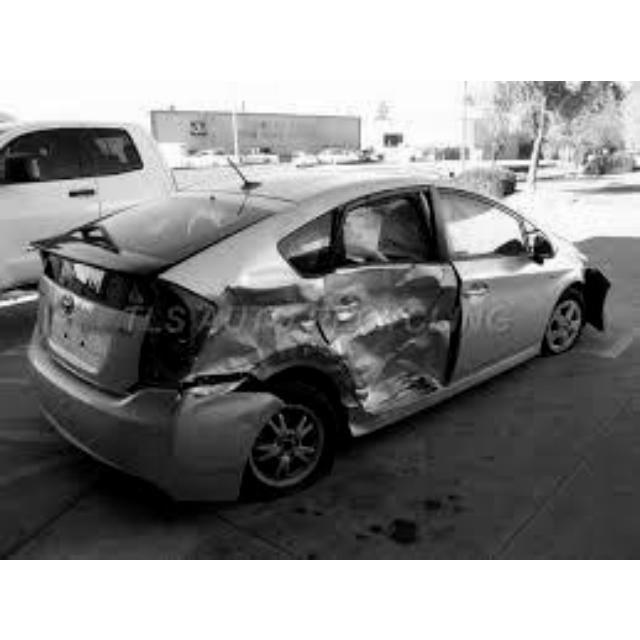doorouter-dent: (319, 266, 447, 394)
quaterpanel-dent: (179, 271, 324, 401)
